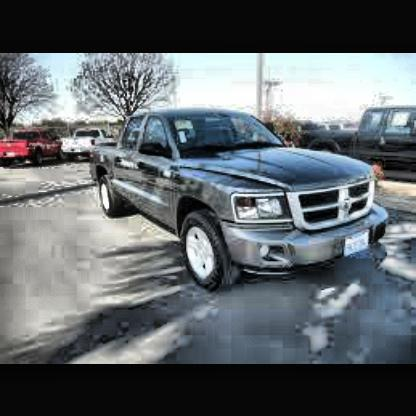Dodge Dakota Crew Cab 2010: (93, 119, 390, 295)
